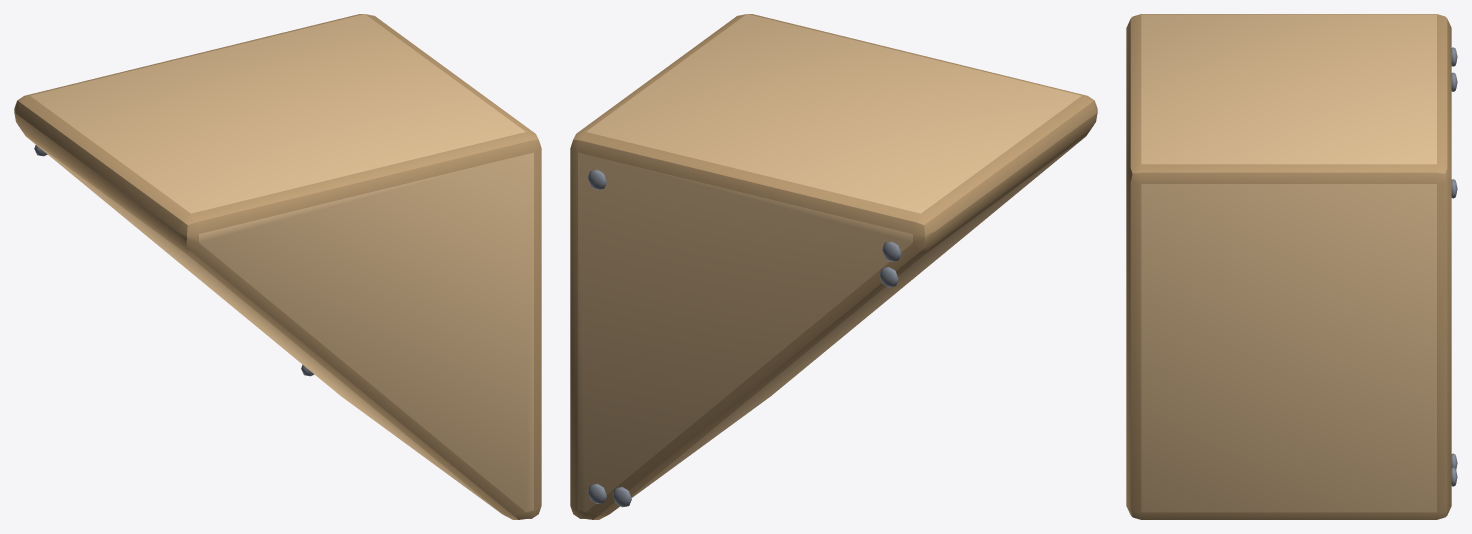
The model's file is TriangleMediumWood.fbx.
The picture shows the model from 3 angles, left to right: view 1: azimuth 30°, elevation 25°; view 2: azimuth 150°, elevation 25°; view 3: azimuth 270°, elevation 25°; orthographic projection. The views are drawn at different scales.
Visible parts, largest first — view 1: TriangleMediumWood; view 2: TriangleMediumWood; view 3: TriangleMediumWood.
Part boxes in pixels (left/top/right/bottom): TriangleMediumWood: left=14, top=14, right=541, bottom=519; TriangleMediumWood: left=570, top=14, right=1097, bottom=519; TriangleMediumWood: left=1126, top=14, right=1457, bottom=519.
Bounding box in the file's own units: 2.6 × 2.65 × 2.24.
